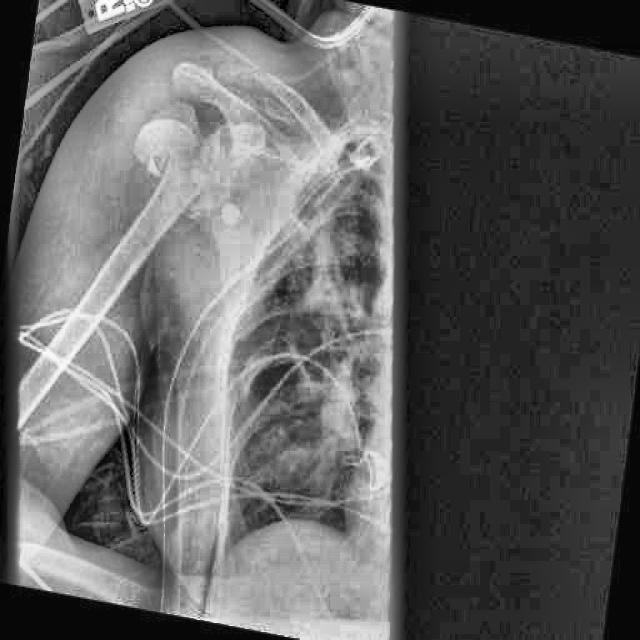shoulder fracture: (107, 90, 223, 208)
